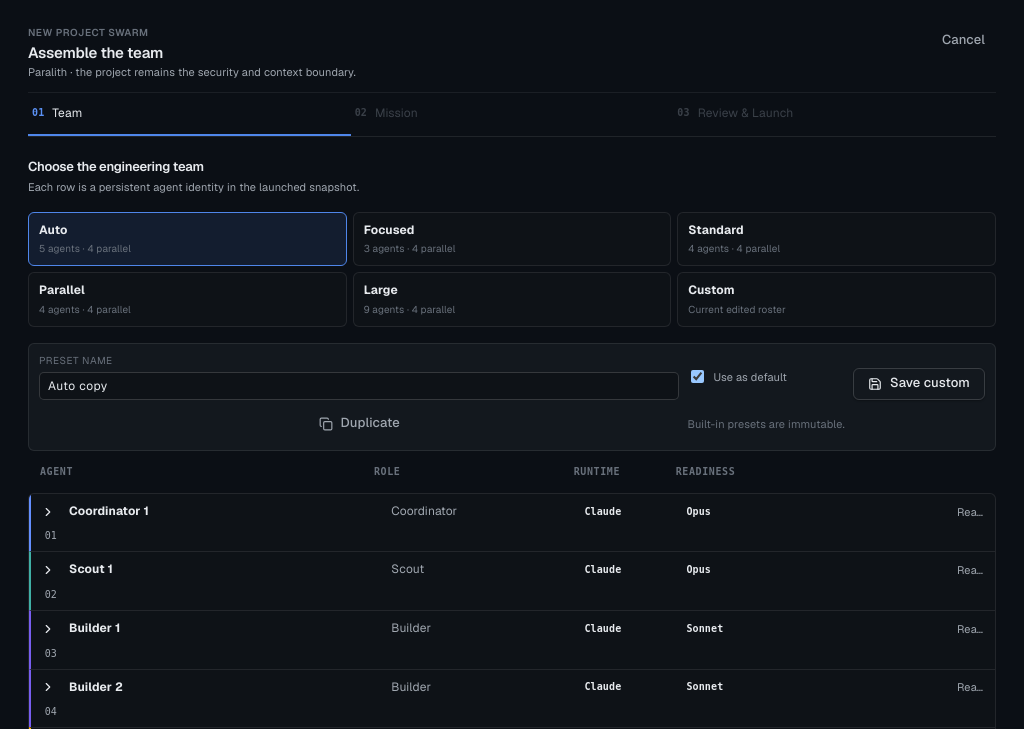
Swarm model identity contract › resolves a canonical model for every member of the Large preset
Expected: the text "Auto" is shown, [39,222,68,238]
Click the text "Large" at coordinates (381, 290), box [364,282,398,298]
(page scrolled)
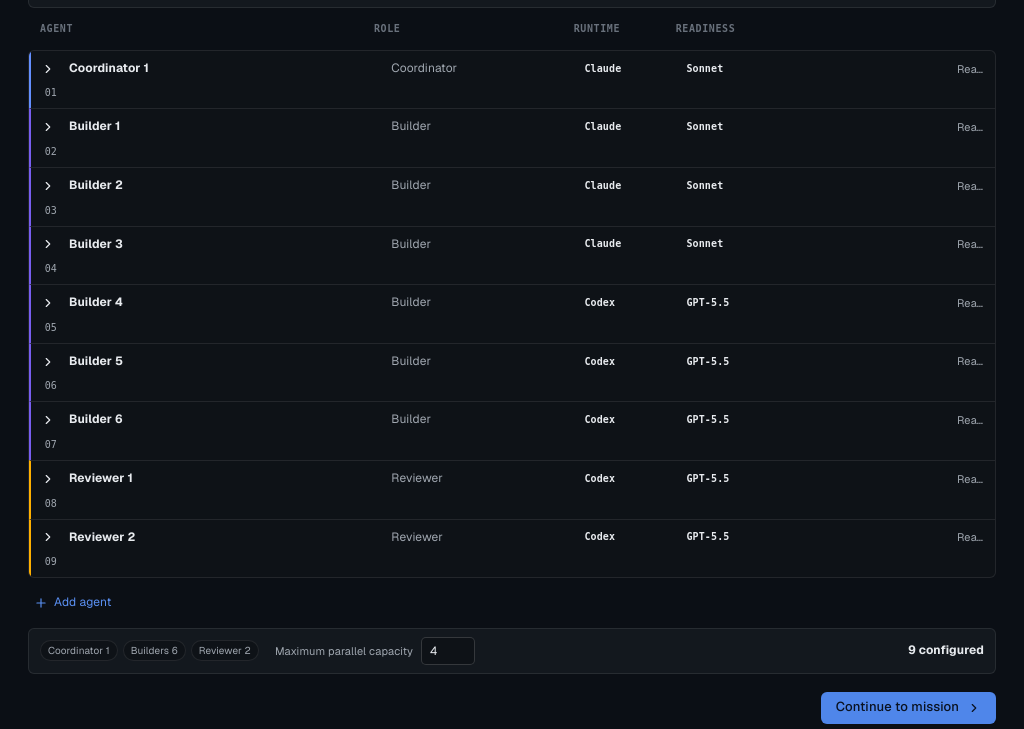
Click the button "Continue to mission" at coordinates (908, 708), box [821,692,996,724]
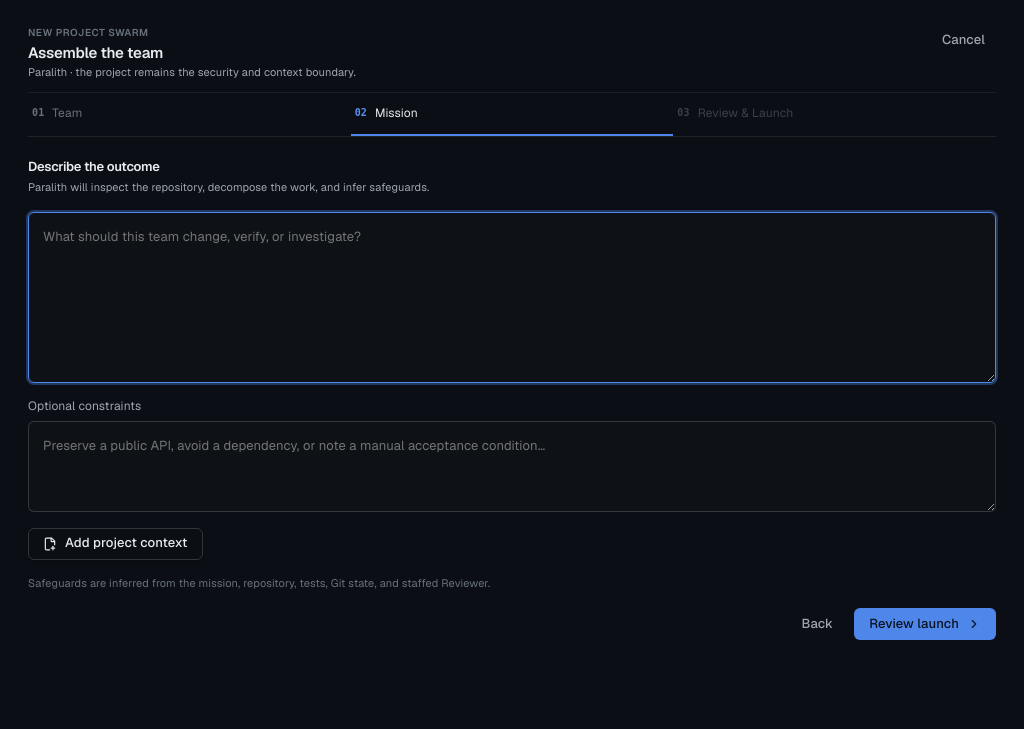
Type "Repair the notification pipeline" into the text box with placeholder "What should this team change, verify, or investigate?" at coordinates (512, 297), box [28,212,996,383]
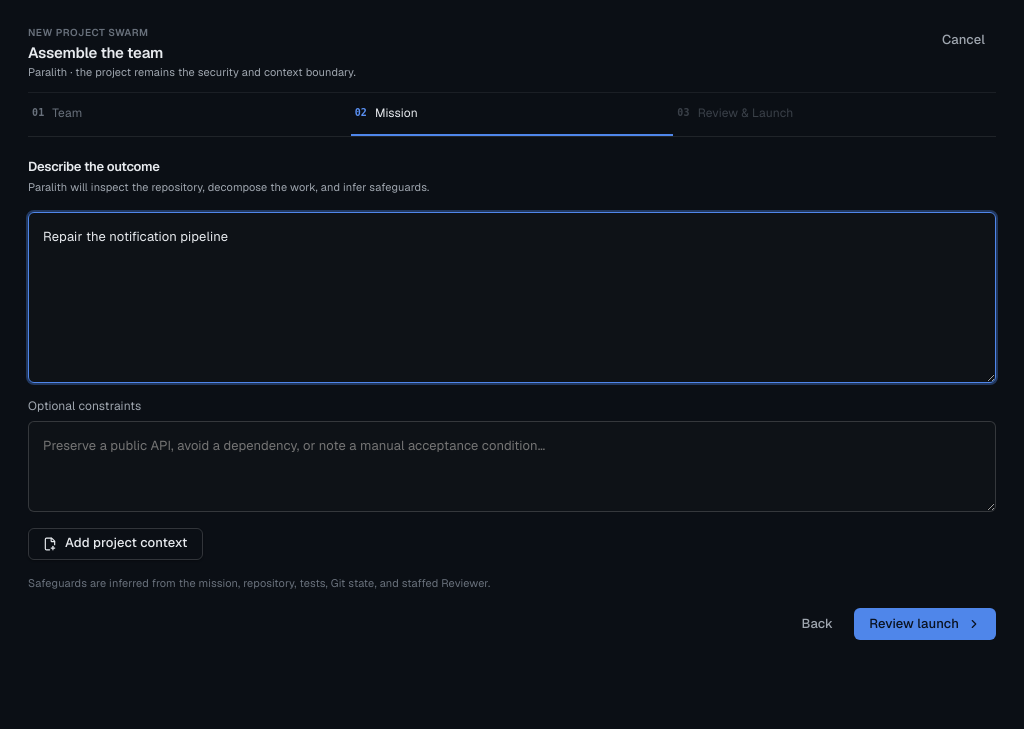
Click the button "Review launch" at coordinates (925, 624), box [854,608,996,640]
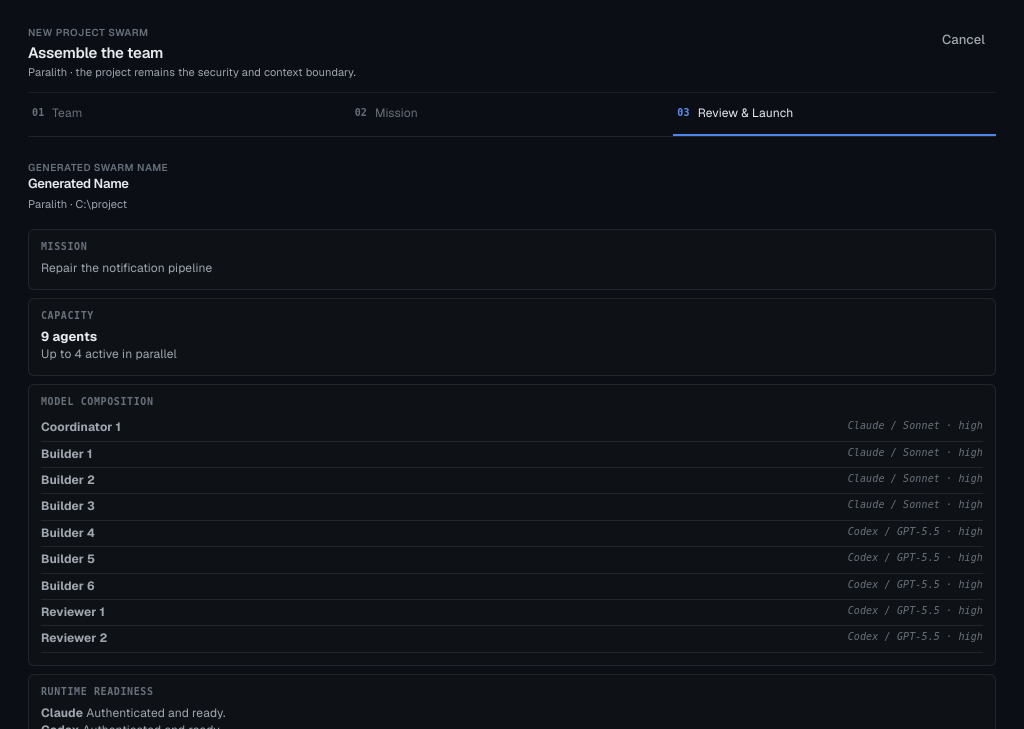
Expected: the heading "Generated Name" is shown, [28,175,129,192]
